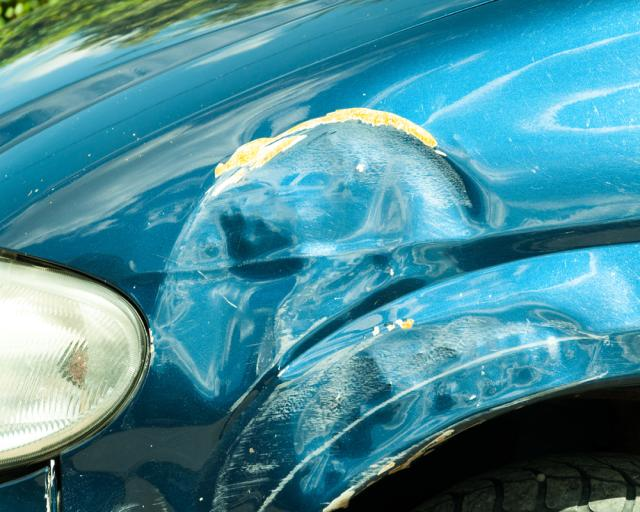dent: (154, 113, 488, 397), (295, 308, 640, 500)
scratch: (212, 344, 363, 512)
